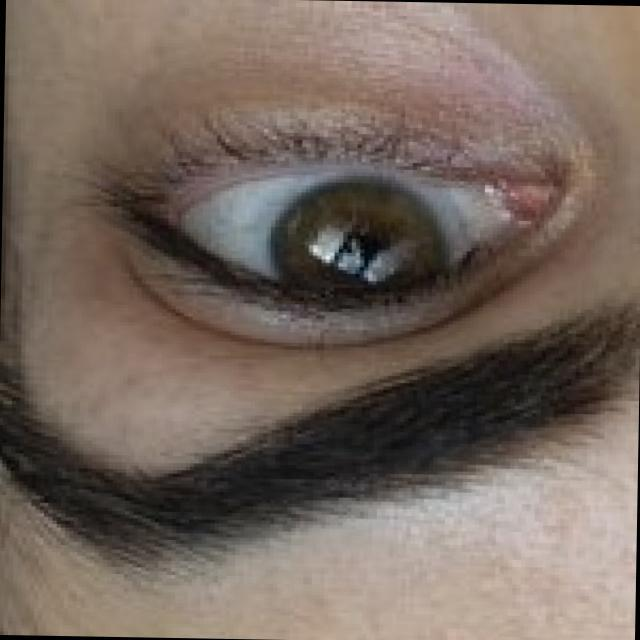Normal: (95, 86, 582, 392)
